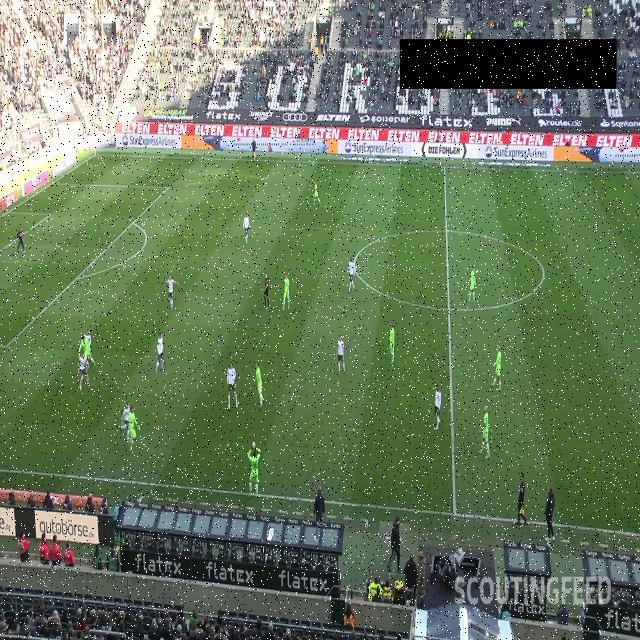Ball: (252, 442, 256, 450)
GoalKeeper: (16, 224, 25, 256)
Referee: (516, 472, 528, 526), (262, 271, 270, 310), (252, 138, 257, 161)
TEAM 1: (248, 444, 261, 498), (478, 406, 491, 460), (78, 335, 96, 370), (128, 408, 141, 455), (253, 361, 265, 407), (491, 346, 503, 392), (466, 264, 476, 304), (388, 322, 396, 365), (312, 179, 322, 208), (282, 274, 290, 309)
TEAM 2: (165, 275, 181, 311), (227, 362, 239, 409), (120, 400, 131, 444), (84, 326, 96, 366), (78, 352, 90, 389), (336, 334, 346, 376), (433, 384, 442, 430), (156, 332, 166, 373), (347, 255, 356, 292), (243, 211, 251, 243)
